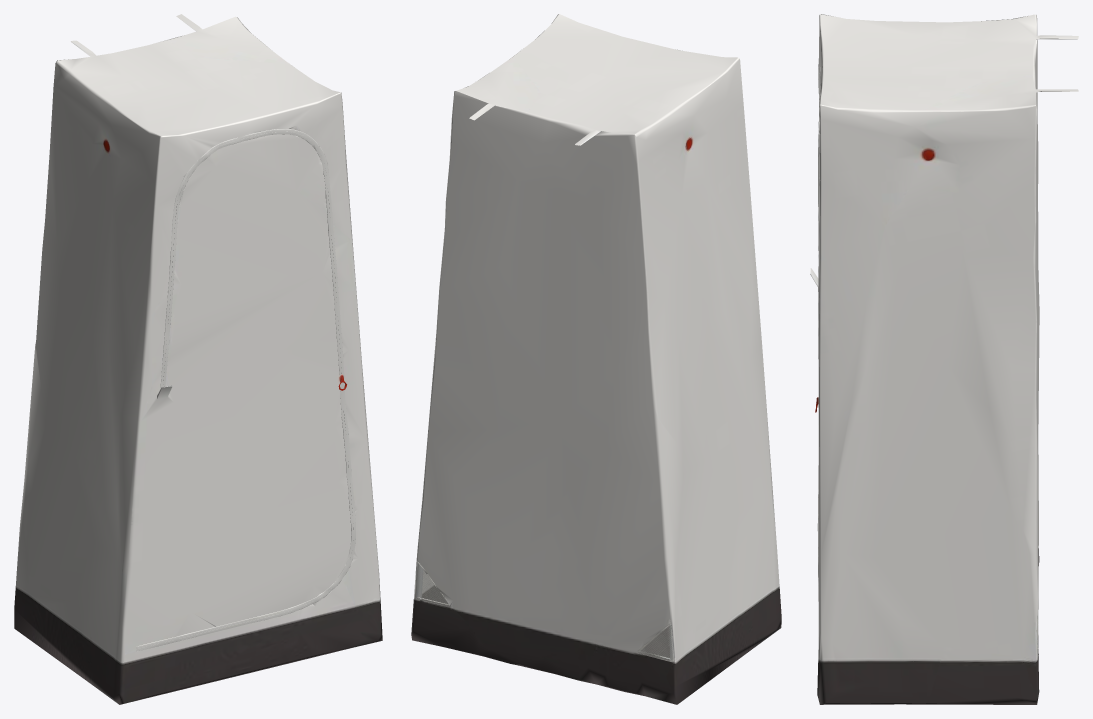
The picture shows the model from 3 angles, left to right: view 1: azimuth 30°, elevation 25°; view 2: azimuth 150°, elevation 25°; view 3: azimuth 270°, elevation 25°; orthographic projection. The views are drawn at different scales.
Parts seen in each view (by area): view 1: ProcessedMeshNode, 2; view 2: ProcessedMeshNode, 2; view 3: ProcessedMeshNode, 2.
Part boxes in pixels (box(x1,y1,x2,y2)): ProcessedMeshNode: box(14, 14, 382, 704); 2: box(136, 129, 355, 651); ProcessedMeshNode: box(411, 14, 781, 704); 2: box(414, 561, 674, 662); ProcessedMeshNode: box(810, 14, 1078, 704); 2: box(818, 64, 1037, 660).
Bounding box in the file's own units: 0.7408 × 1.49 × 0.627.
Materials: 2 (2 with a texture image).
